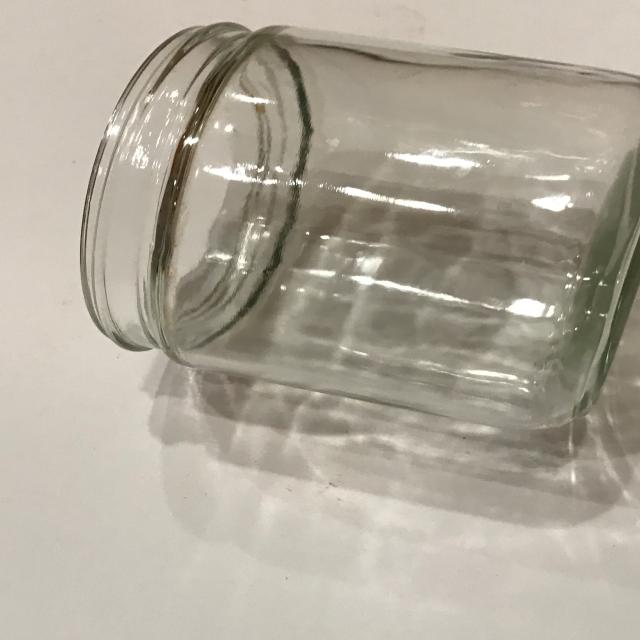glass: (79, 21, 640, 431)
